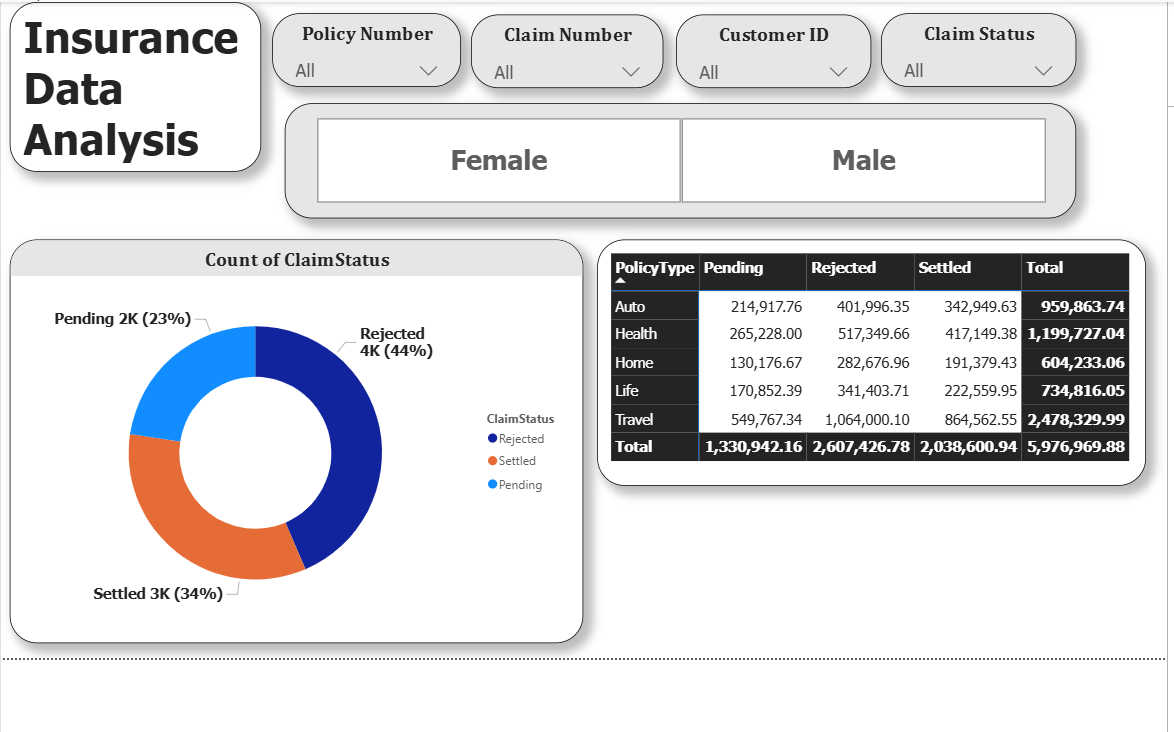

What the dashboard file says about the page in this screenshot:
{"tool":"powerbi","page":{"name":"Page 2","canvas":[1280,720],"ordinal":1},"visuals":[{"type":"textbox","title":"Insurance Data Analysis","box":[9.6,0,275.8,186.6],"z":0},{"type":"slicer","title":"Policy Number","fields":{"Values":["InsuranceData.PolicyNumber"]},"box":[297.8,12.3,207.2,81],"z":1},{"type":"slicer","title":"Claim  Number","fields":{"Values":["InsuranceData.ClaimNumber"]},"box":[516,13.7,211.3,81],"z":2},{"type":"slicer","title":"Customer ID","fields":{"Values":["InsuranceData.CustomerID"]},"box":[741,13.7,214.1,81],"z":3},{"type":"slicer","title":"Claim Status","fields":{"Values":["InsuranceData.ClaimStatus"]},"box":[966,12.3,214.1,81],"z":4},{"type":"slicer","fields":{"Values":["InsuranceData.Gender"]},"box":[311.5,111.1,868.6,126.2],"z":5},{"type":"donutChart","title":"Count of ClaimStatus","fields":{"Category":["InsuranceData.ClaimStatus"],"Y":["CountNonNull(InsuranceData.ClaimStatus)"]},"box":[9.6,260.7,629.8,443.2],"z":6},{"type":"pivotTable","fields":{"Rows":["InsuranceData.PolicyType"],"Columns":["InsuranceData.ClaimStatus"],"Values":["Sum(InsuranceData.PremiumAmount)"]},"box":[654.5,260.7,602.4,270.3],"z":7}]}

Visuals, with their boxes on the page's 1280x720 design canvas (x1, y1, x2, y2). These are canvas units, not pixel positions in the 1174x732 screenshot, which may show the page scaled, cropped or inside an application window:
"Insurance Data Analysis" textbox: select_region(10, 0, 285, 187)
"Policy Number" slicer: select_region(298, 12, 505, 93)
"Claim  Number" slicer: select_region(516, 14, 727, 95)
"Customer ID" slicer: select_region(741, 14, 955, 95)
"Claim Status" slicer: select_region(966, 12, 1180, 93)
slicer - InsuranceData.Gender: select_region(312, 111, 1180, 237)
"Count of ClaimStatus" donutChart: select_region(10, 261, 639, 704)
pivotTable - InsuranceData.PolicyType x InsuranceData.ClaimStatus: select_region(654, 261, 1257, 531)
